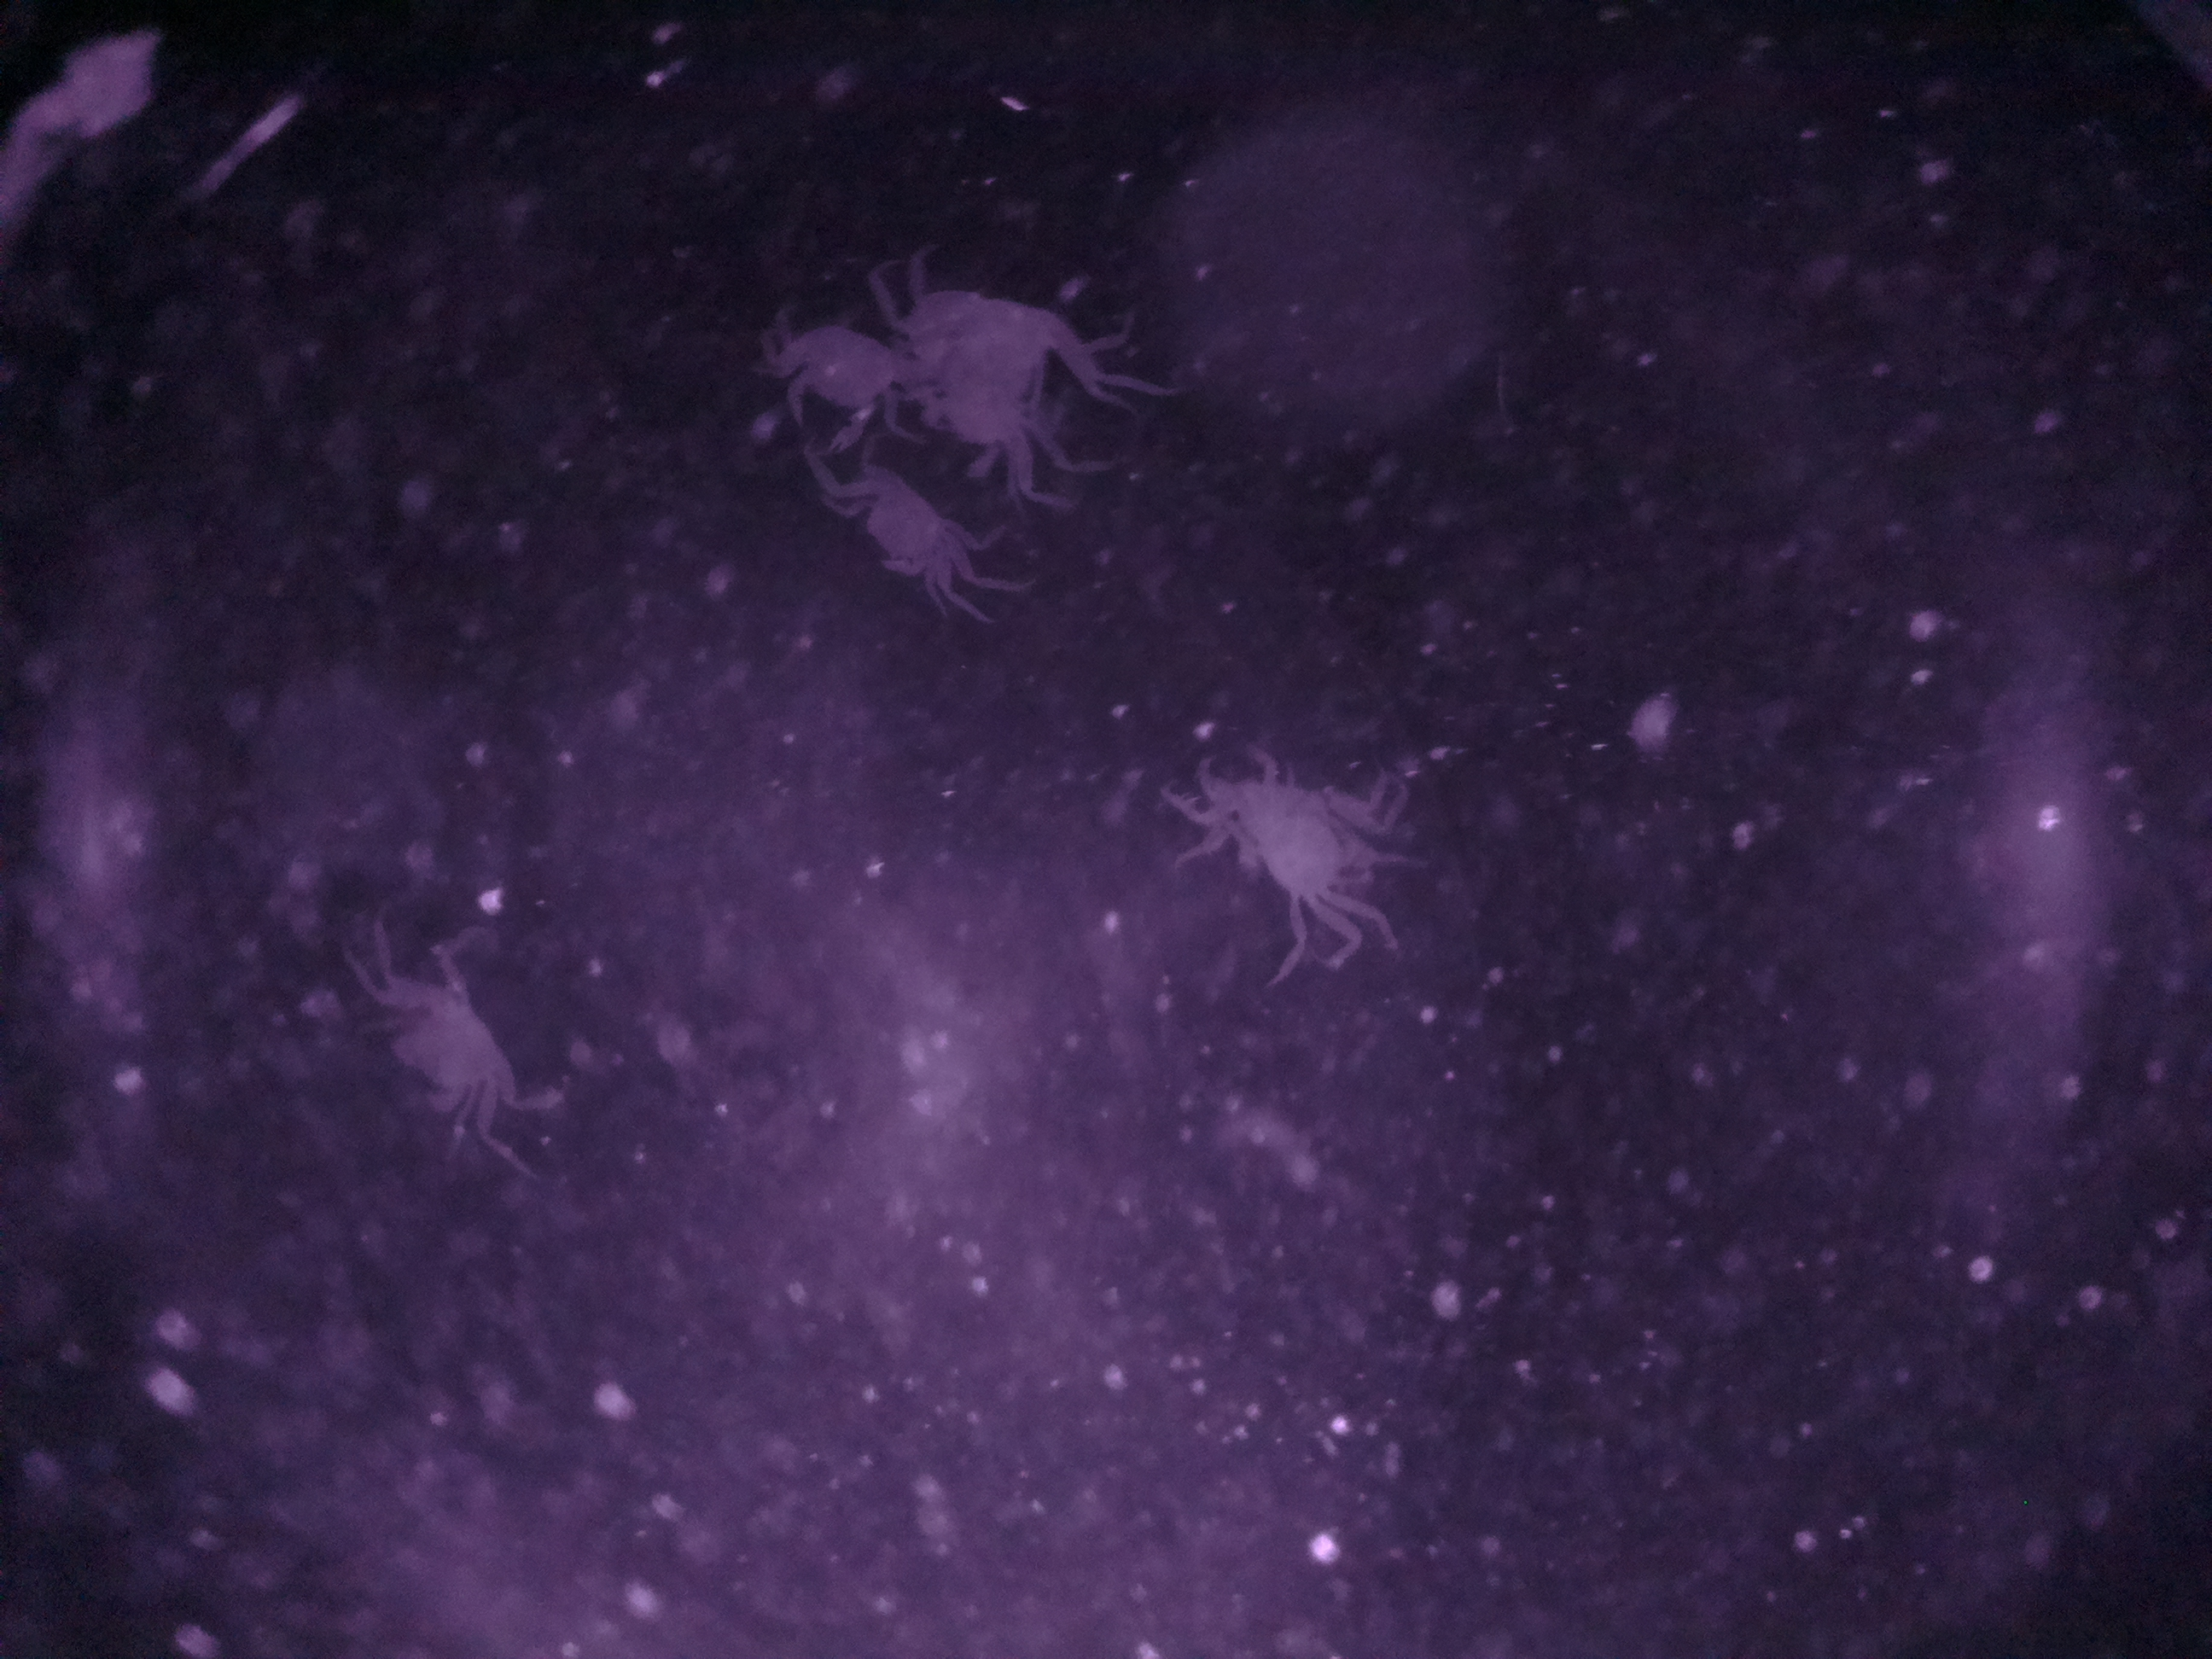Crab: (817, 446, 1022, 629)
